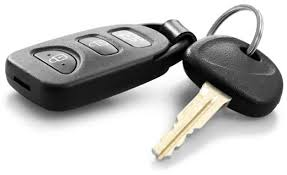kicharina: (149, 33, 285, 163)
